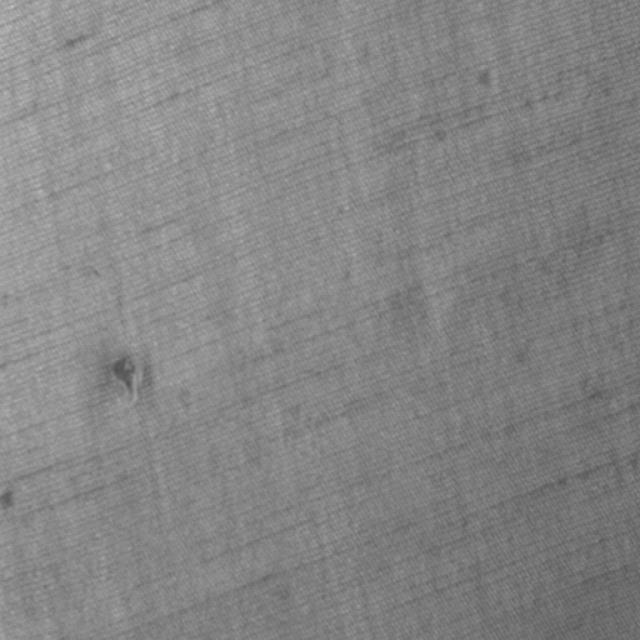objects: (108, 348, 148, 410)
